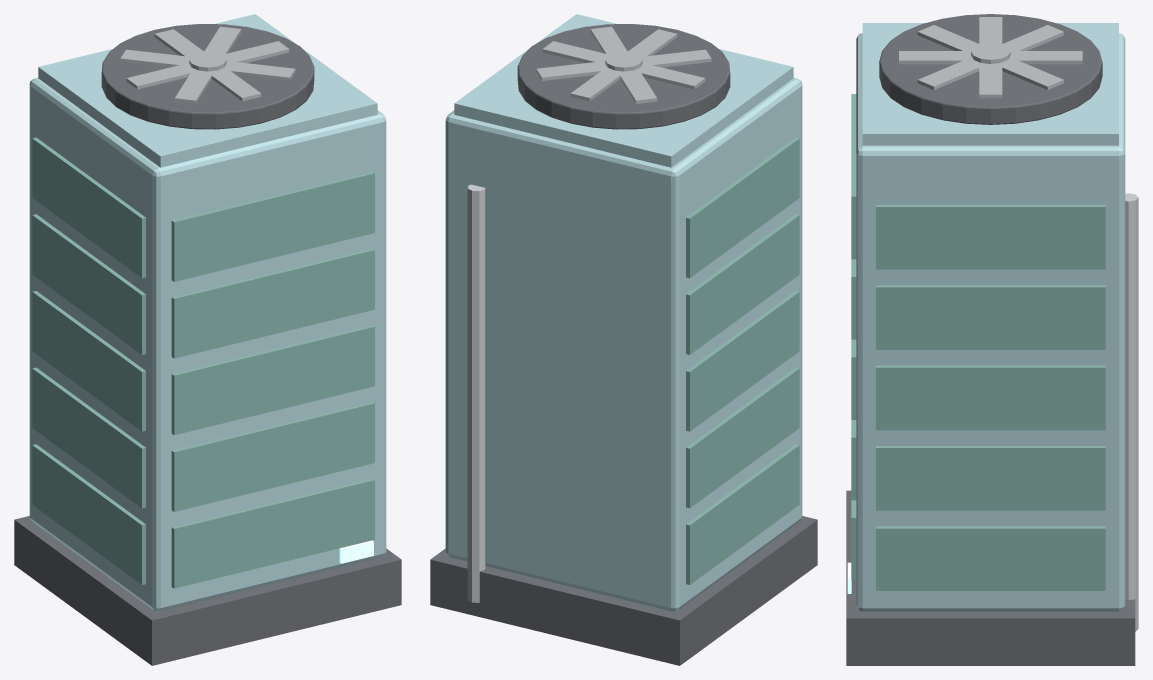
The model's file is evap.fbx.
3 renders of one model, left to right at view 1: azimuth 30°, elevation 25°; view 2: azimuth 150°, elevation 25°; view 3: azimuth 270°, elevation 25°, orthographic. The views are drawn at different scales.
Visible parts, largest first — view 1: evap; view 2: evap; view 3: evap.
Part boxes in pixels (box(x1,y1,x2,y2)): evap: box(14, 14, 401, 665); evap: box(430, 14, 817, 665); evap: box(846, 14, 1138, 665).
Bounding box in the file's own units: 0.92 × 1.85 × 0.89.
